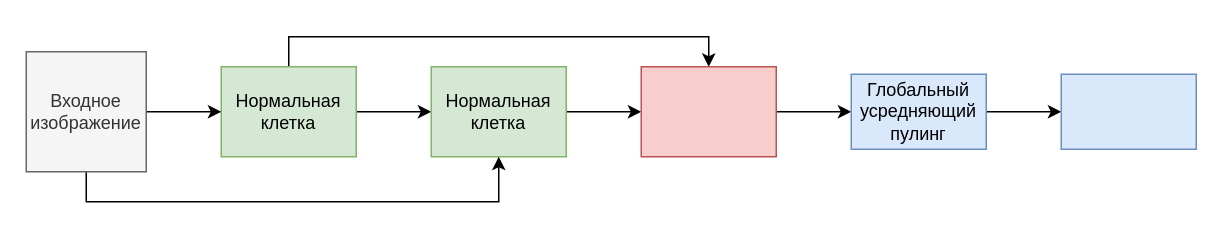
This 1223x240 diagram has some shape labels left out. Each missing label, with the centre of its shape:
"Полносвязный слой" belongs at (x=1128, y=111).
"Сокращающая клетка" belongs at (x=708, y=111).
